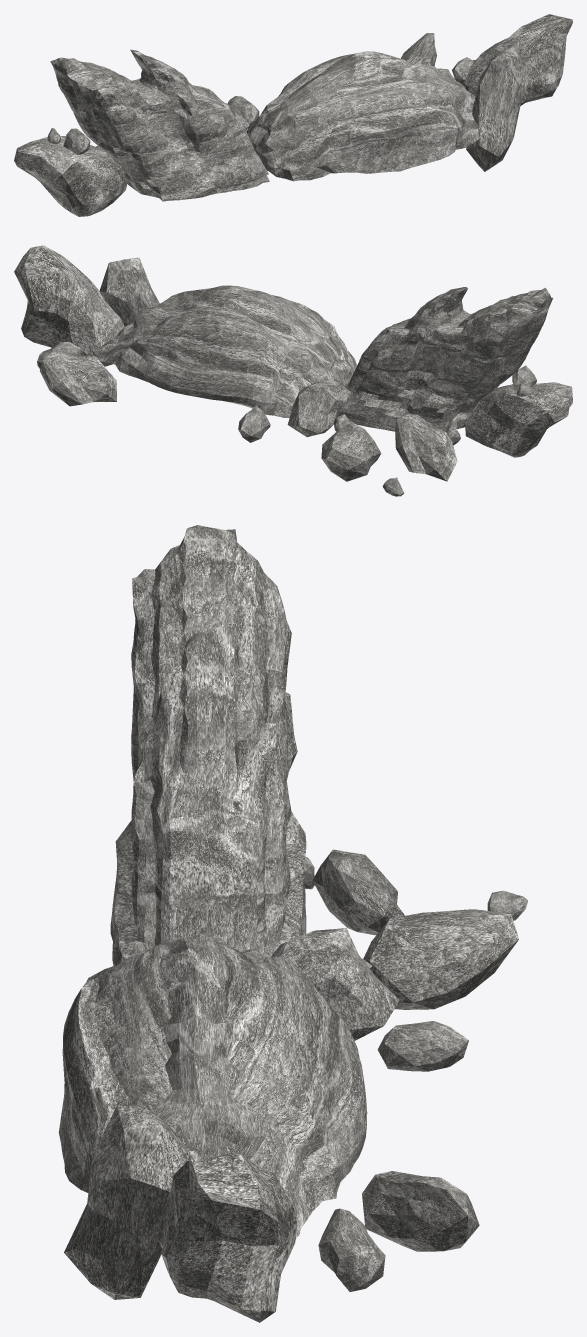
The model's file is large-rock-structure1.glb.
3 views of the same model, one above another, from view 1: azimuth 30°, elevation 25°; view 2: azimuth 150°, elevation 25°; view 3: azimuth 270°, elevation 25° (orthographic). The views are drawn at different scales.
Visible parts, largest first — view 1: Cube.001, Cube, Cube.002, Icosphere.009, Cube.003, Icosphere.010, Icosphere.004, Icosphere.002, Icosphere.011; view 2: Cube.001, Cube, Cube.003, Cube.002, Icosphere.010, Icosphere.007, Icosphere.009, Icosphere.001, Icosphere, Icosphere.002, Icosphere.004, Icosphere.011; view 3: Cube, Cube.001, Cube.003, Icosphere.009, Icosphere.001, Icosphere.010, Icosphere, Icosphere.007, Icosphere.011, Icosphere.002.
Part boxes in pixels (bbox=[...]): Cube.001: bbox=[246, 51, 478, 181]; Cube: bbox=[50, 49, 269, 201]; Cube.002: bbox=[14, 136, 127, 216]; Icosphere.009: bbox=[466, 47, 531, 171]; Cube.003: bbox=[463, 14, 572, 105]; Icosphere.010: bbox=[401, 33, 436, 66]; Icosphere.004: bbox=[63, 128, 90, 154]; Icosphere.002: bbox=[227, 96, 259, 128]; Icosphere.011: bbox=[452, 57, 475, 84]; Cube.001: bbox=[95, 285, 357, 417]; Cube: bbox=[338, 287, 552, 433]; Cube.003: bbox=[14, 245, 124, 366]; Cube.002: bbox=[465, 382, 572, 457]; Icosphere.010: bbox=[40, 350, 116, 406]; Icosphere.007: bbox=[395, 413, 457, 481]; Icosphere.009: bbox=[99, 257, 159, 326]; Icosphere.001: bbox=[321, 421, 381, 481]; Icosphere: bbox=[287, 379, 351, 437]; Icosphere.002: bbox=[238, 406, 270, 442]; Icosphere.004: bbox=[512, 365, 536, 390]; Icosphere.011: bbox=[37, 341, 80, 368]; Cube: bbox=[110, 525, 306, 965]; Cube.001: bbox=[58, 933, 367, 1238]; Cube.003: bbox=[157, 1152, 296, 1322]; Icosphere.009: bbox=[64, 1105, 196, 1299]; Icosphere.001: bbox=[363, 909, 518, 1009]; Icosphere.010: bbox=[362, 1171, 479, 1251]; Icosphere: bbox=[271, 928, 399, 1040]; Icosphere.007: bbox=[312, 849, 404, 935]; Icosphere.011: bbox=[318, 1208, 385, 1291]; Icosphere.002: bbox=[377, 1021, 468, 1071].
Size of the model in its own units: 70.35 by 23.25 by 26.15.
Materials: 2 (2 with a texture image).
